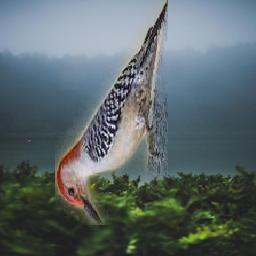Woodpecker: (56, 0, 169, 225)
